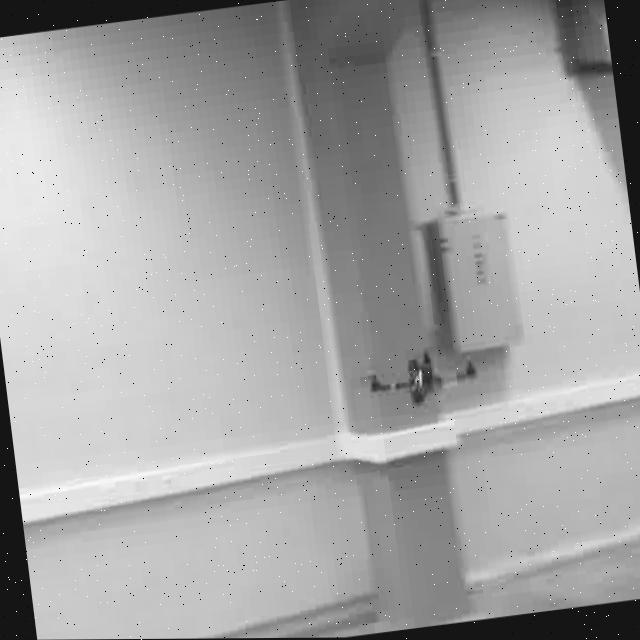drone: (336, 308, 505, 448)
